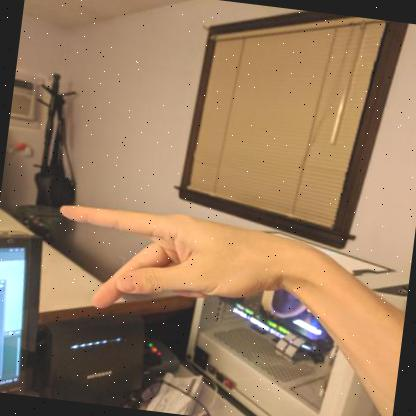P: (59, 205, 290, 308)
